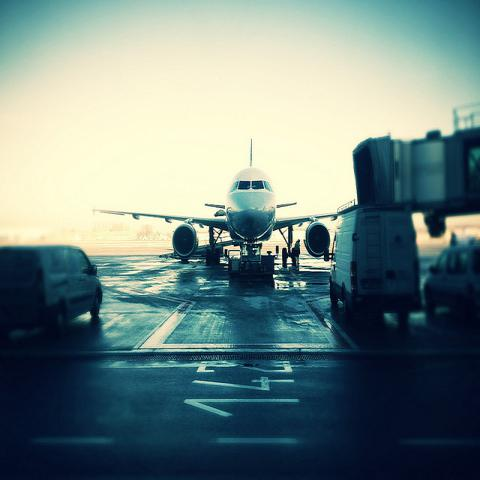car: (0, 244, 103, 340), (424, 246, 479, 320)
truck: (329, 199, 423, 330)
